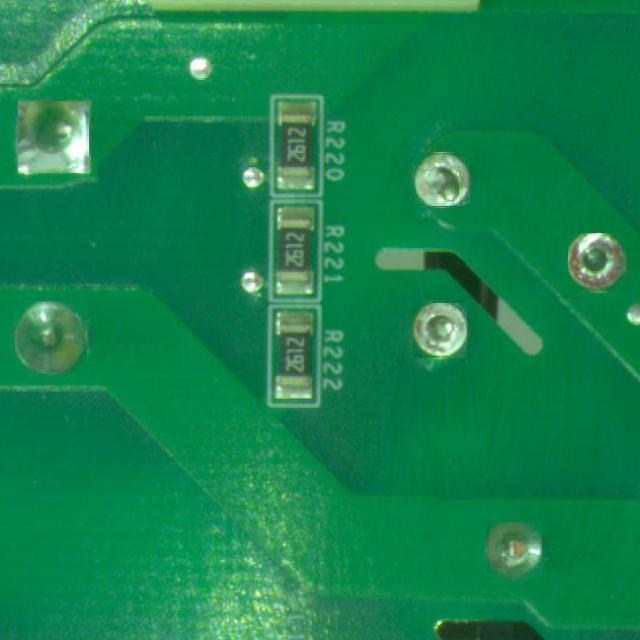oppostie_direction: (16, 301, 85, 372), (19, 101, 87, 172), (569, 234, 623, 289), (486, 523, 542, 576), (416, 153, 470, 206), (414, 303, 467, 357)
